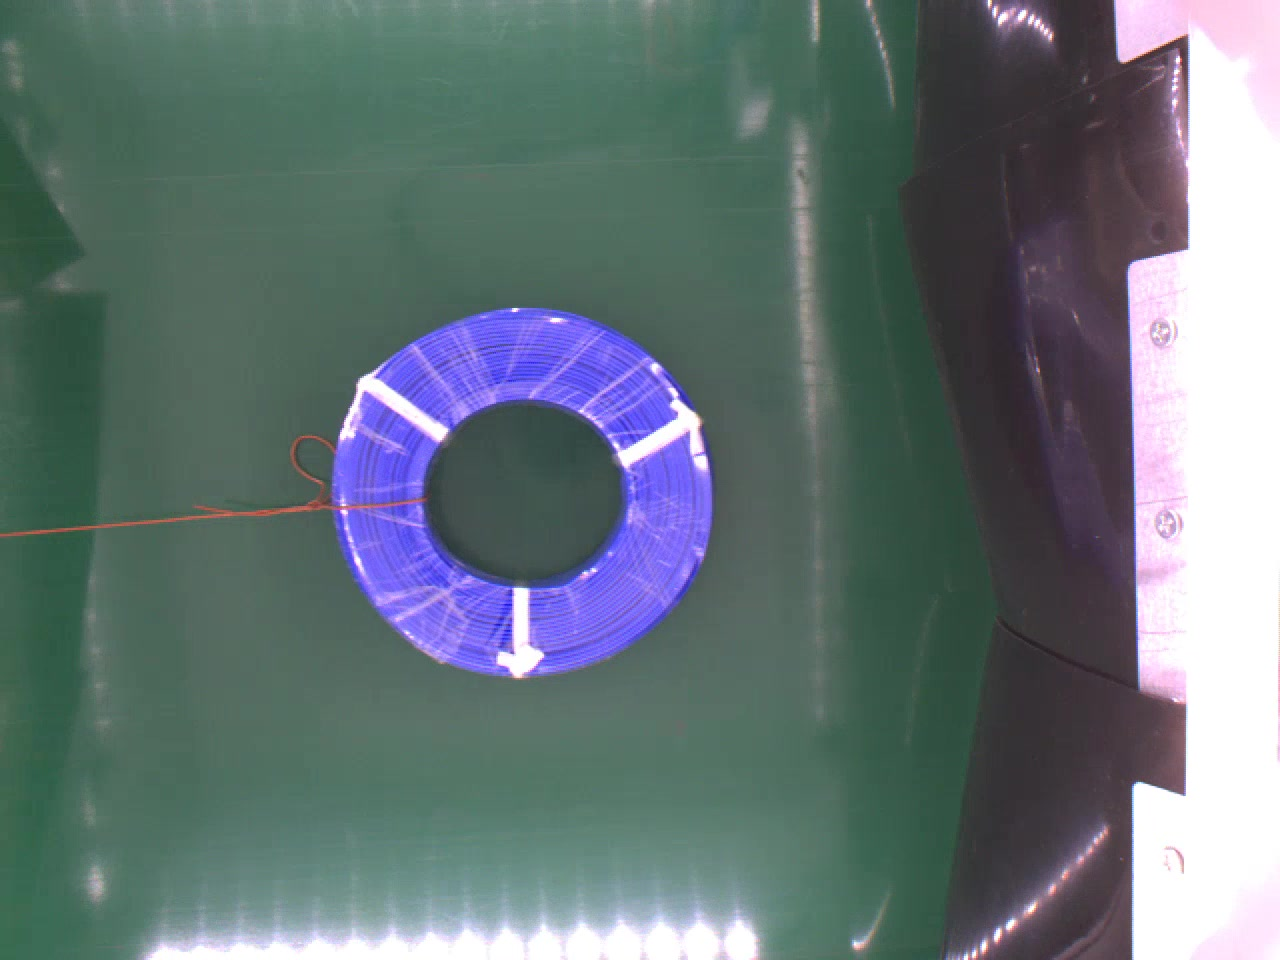blue: (332, 304, 715, 681)
